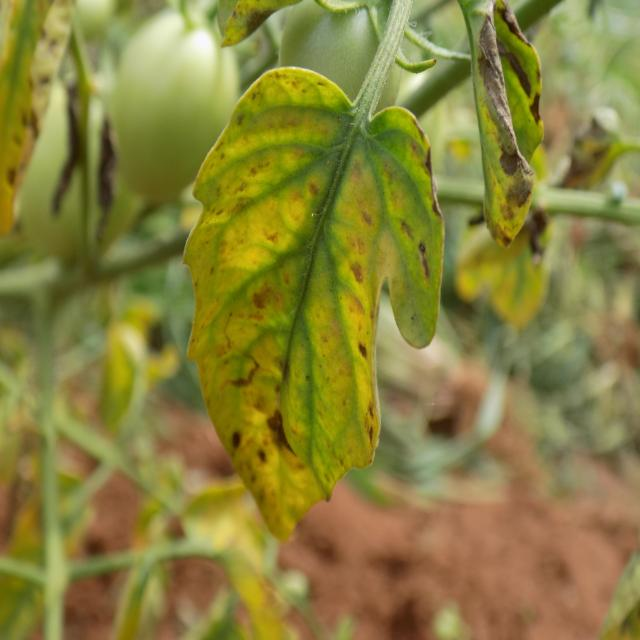tomato_early blight: (181, 65, 445, 538), (456, 0, 547, 241), (0, 0, 81, 235)
